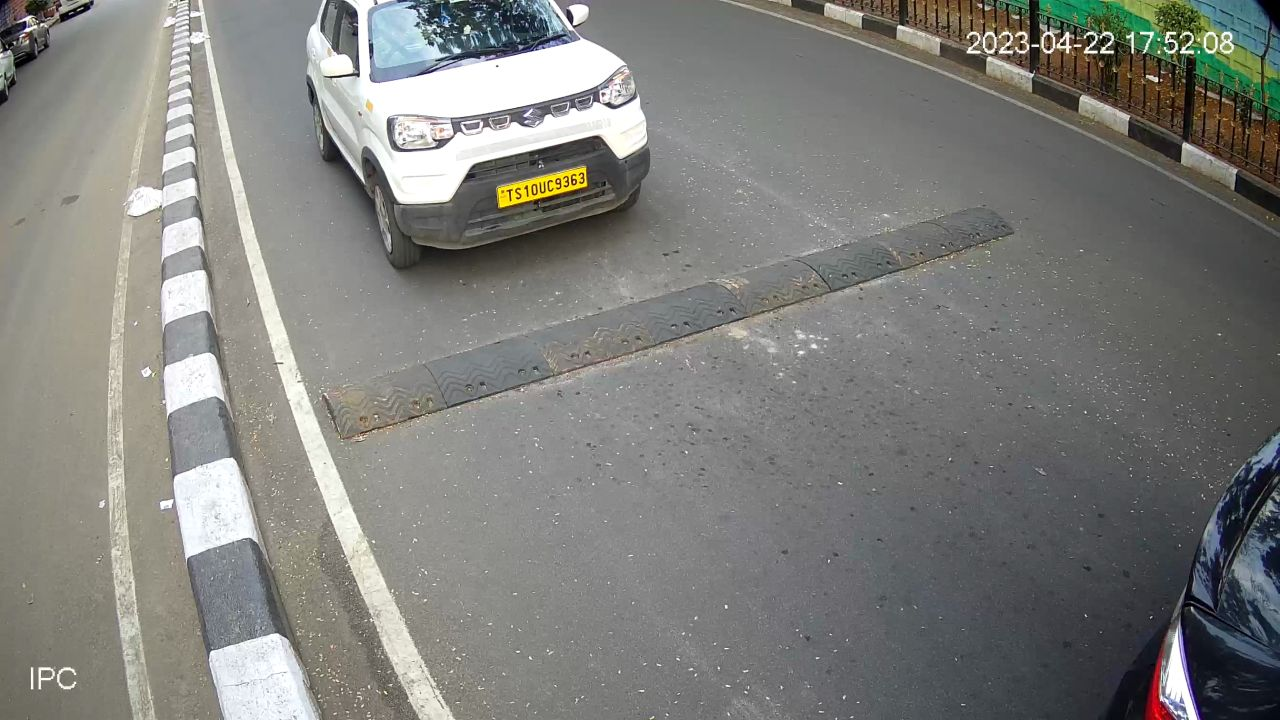license_plate: (490, 159, 592, 223)
